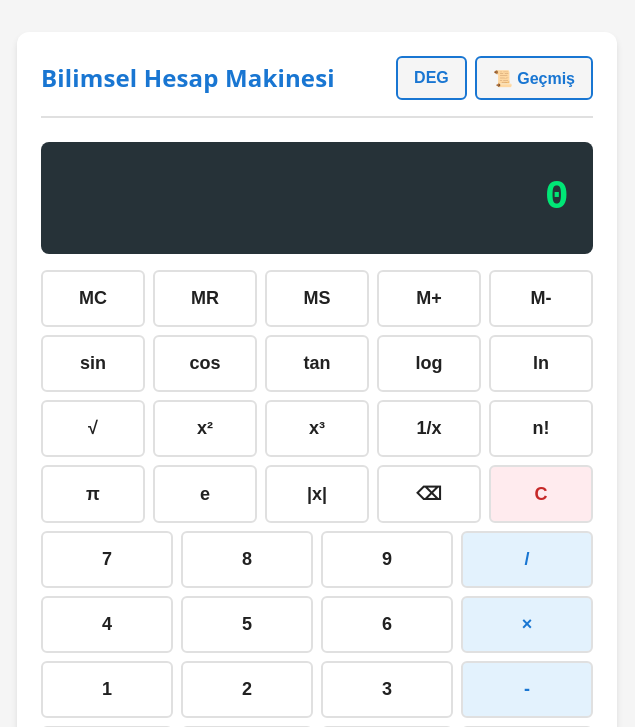
Test case: ScientificCalculator › Basic Arithmetic Operations › should handle decimal numbers
The image size is (635, 727).
Click the button labelled "3": coordinates (387, 690) [321, 661, 453, 718]
(page scrolled)
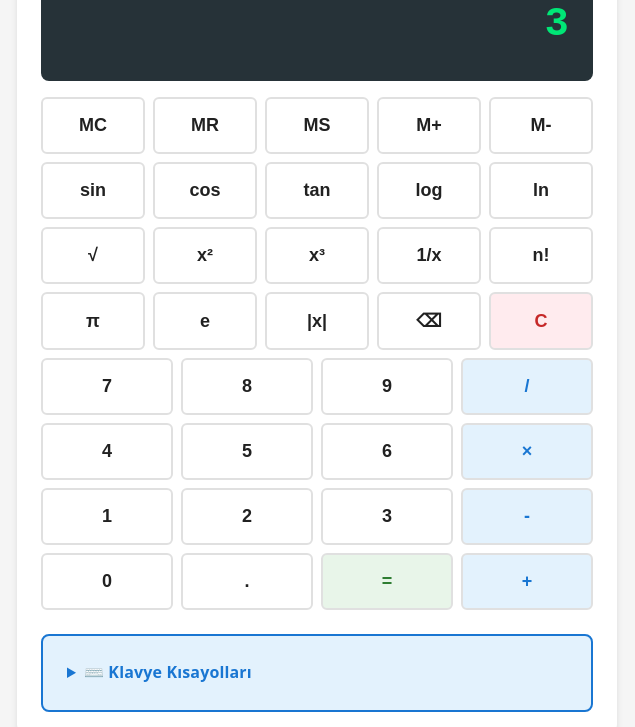
Click the button named "Ondalık nokta": coordinates (247, 582) [181, 553, 313, 610]
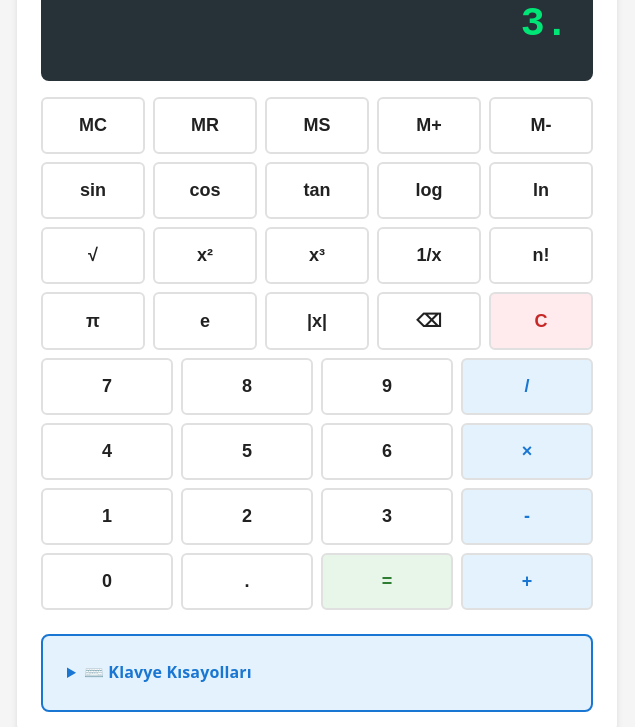
Click the button labelled "1": coordinates (107, 516) [41, 488, 173, 545]
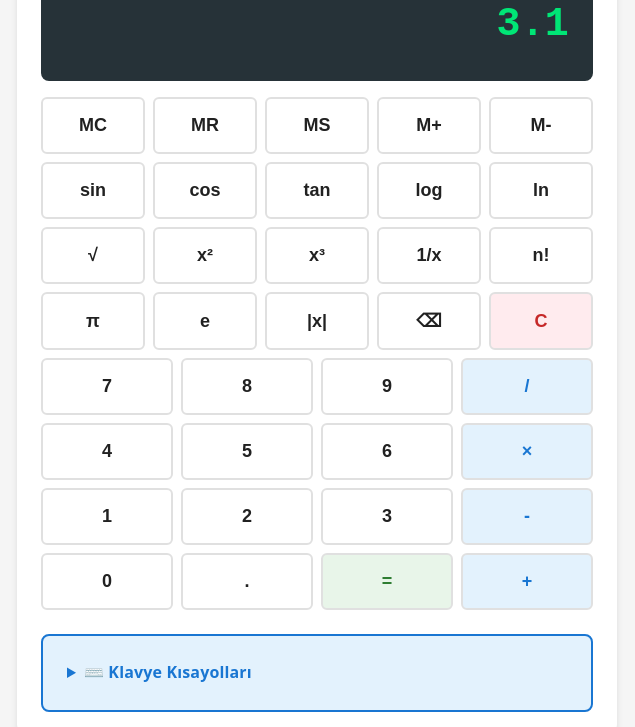
Click the button labelled "4": coordinates (107, 452) [41, 423, 173, 480]
(page scrolled)
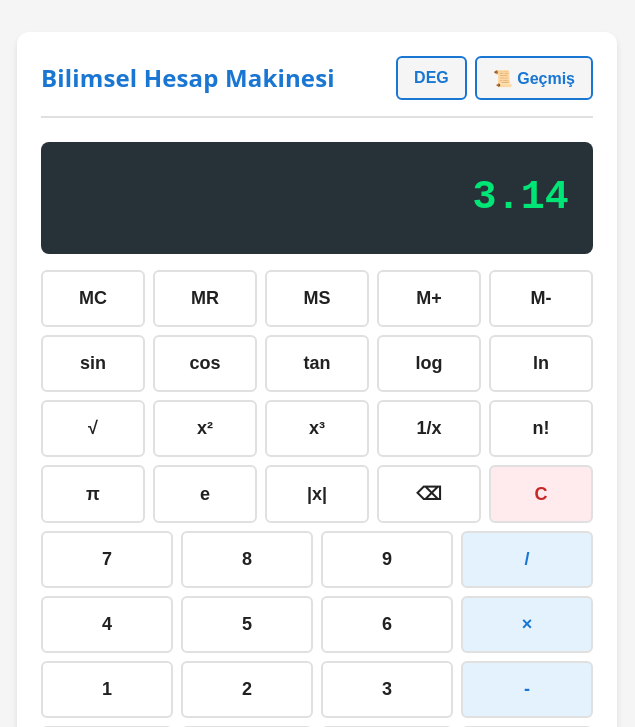
Check: the text "3.14" is shown, box [472, 175, 569, 220]
